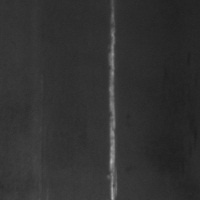scratches: (102, 0, 121, 199)
